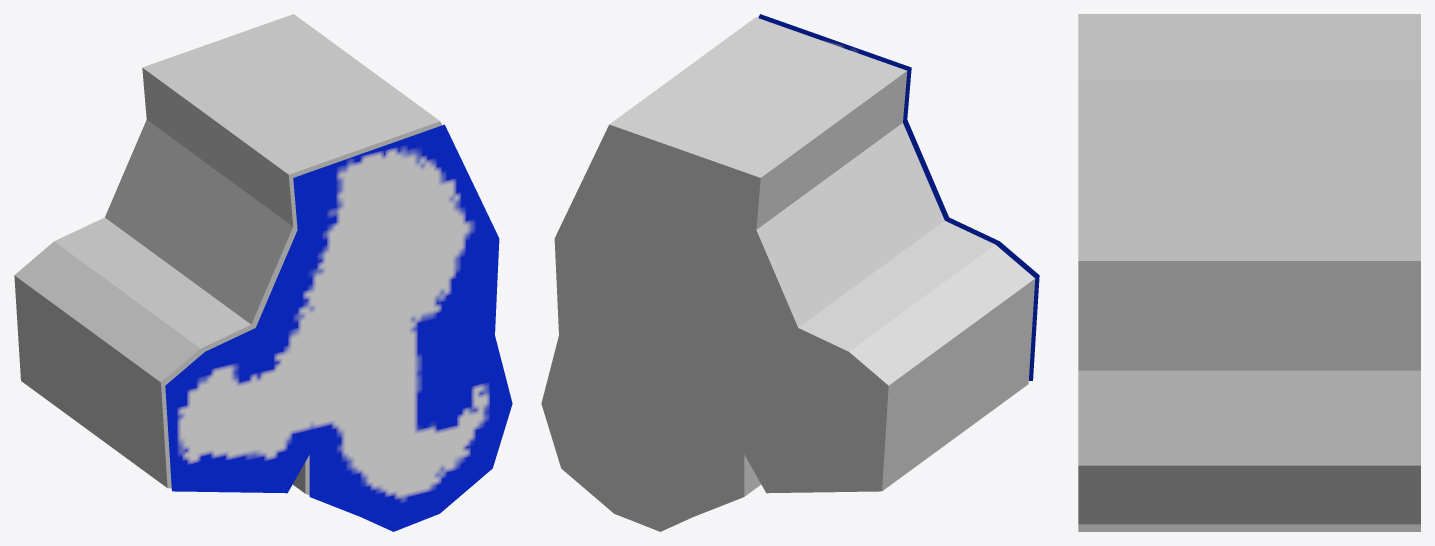
3 renders of one model, left to right at view 1: azimuth 30°, elevation 25°; view 2: azimuth 150°, elevation 25°; view 3: azimuth 270°, elevation 25°, orthographic. The views are drawn at different scales.
Visible parts, largest first — view 1: In_4_1, In_4_0; view 2: In_4_0, In_4_1; view 3: In_4_0.
Part boxes in pixels (x1,y1,x2,y2): In_4_1: [165, 124, 512, 531]; In_4_0: [14, 14, 441, 495]; In_4_0: [541, 17, 1035, 531]; In_4_1: [758, 14, 1039, 380]; In_4_0: [1078, 14, 1420, 531].
Bounding box in the file's own units: 0.6842 × 0.7436 × 0.515.
2 materials, 1 textured.
